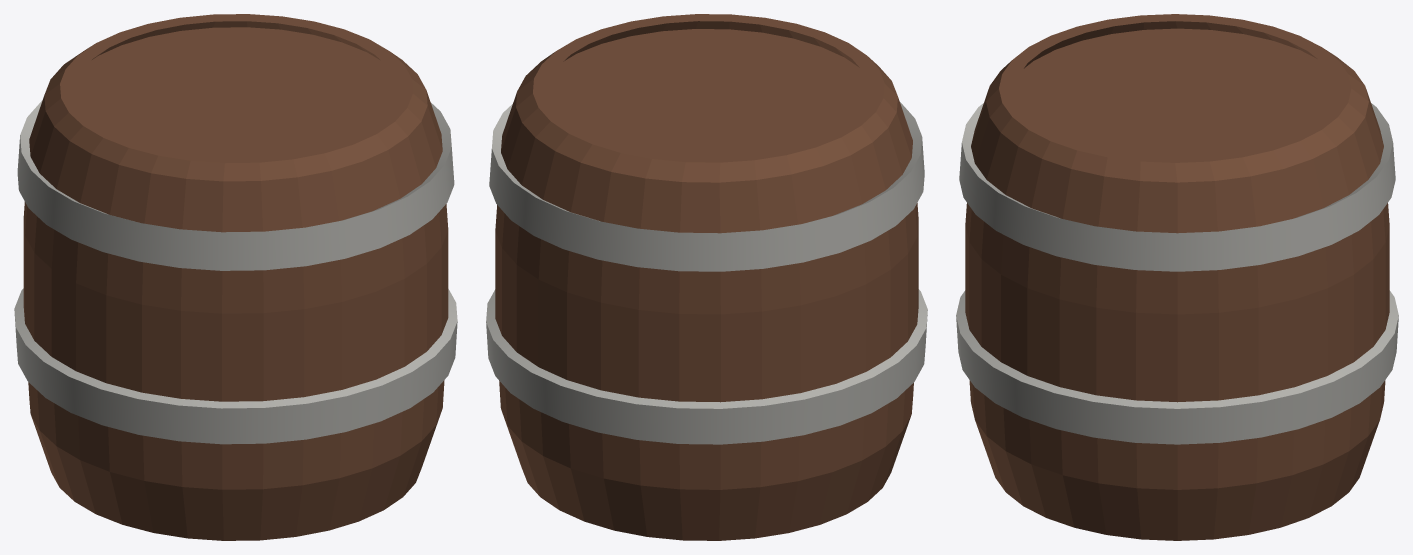
The model's file is JamTynnyrii.fbx.
3 views of the same model, side by side, from view 1: azimuth 30°, elevation 25°; view 2: azimuth 150°, elevation 25°; view 3: azimuth 270°, elevation 25° (orthographic).
Parts seen in each view (by area): view 1: Tynnyri, Metallit; view 2: Tynnyri, Metallit; view 3: Tynnyri, Metallit.
Boxes of the visible parts, x1=… form: Tynnyri: x1=23, y1=14, x2=448, y2=540; Metallit: x1=14, y1=100, x2=457, y2=444; Tynnyri: x1=495, y1=14, x2=918, y2=540; Metallit: x1=486, y1=102, x2=927, y2=444; Tynnyri: x1=965, y1=14, x2=1389, y2=540; Metallit: x1=956, y1=103, x2=1398, y2=444.
Size of the model in its own units: 222 by 207 by 222.
